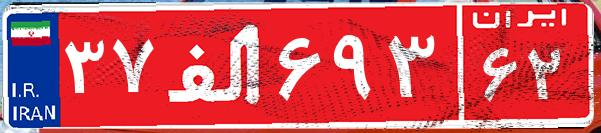2: (525, 38, 570, 115)
3: (385, 28, 445, 110), (57, 26, 110, 107)
6: (273, 28, 330, 110), (475, 38, 525, 113)
7: (110, 28, 158, 105)
9: (330, 28, 385, 110)
الف: (158, 15, 273, 115)
